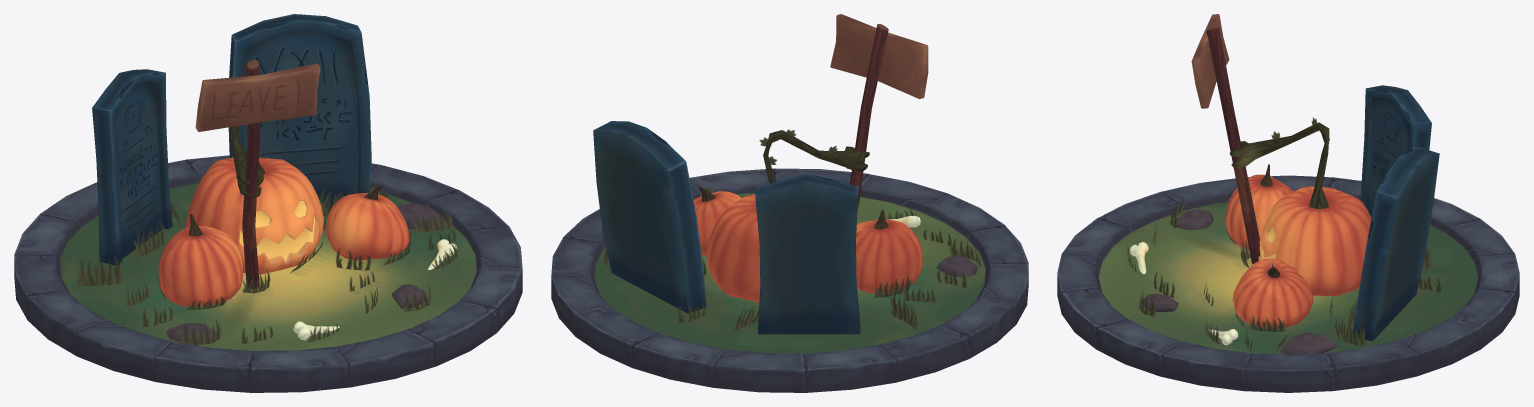
The model's file is helloween.glb.
3 views of the same model, side by side, from view 1: azimuth 30°, elevation 25°; view 2: azimuth 150°, elevation 25°; view 3: azimuth 270°, elevation 25° (orthographic). The views are drawn at different scales.
Parts seen in each view (by area): view 1: HelloweenUV.001, HelloweenUV.003, HelloweenUV.014, HelloweenUV.009, HelloweenUV.006, HelloweenUV.024, HelloweenUV.005, HelloweenUV.010, HelloweenUV.015, HelloweenUV.007; view 2: HelloweenUV.001, HelloweenUV.003, HelloweenUV.014, HelloweenUV.009, HelloweenUV.006, HelloweenUV.024, HelloweenUV.013; view 3: HelloweenUV.001, HelloweenUV.014, HelloweenUV.003, HelloweenUV.009, HelloweenUV.006, HelloweenUV.005, HelloweenUV.004.
Part boxes in pixels (left/top/right/bottom): HelloweenUV.001: left=14, top=155, right=522, bottom=392; HelloweenUV.003: left=92, top=14, right=371, bottom=265; HelloweenUV.014: left=158, top=125, right=409, bottom=306; HelloweenUV.009: left=195, top=60, right=320, bottom=289; HelloweenUV.006: left=166, top=203, right=445, bottom=343; HelloweenUV.024: left=76, top=256, right=123, bottom=285; HelloweenUV.005: left=293, top=239, right=457, bottom=340; HelloweenUV.010: left=133, top=221, right=165, bottom=258; HelloweenUV.015: left=178, top=319, right=220, bottom=345; HelloweenUV.007: left=412, top=209, right=453, bottom=231; HelloweenUV.001: left=551, top=168, right=1028, bottom=392; HelloweenUV.003: left=593, top=121, right=860, bottom=334; HelloweenUV.014: left=693, top=130, right=922, bottom=302; HelloweenUV.009: left=830, top=14, right=928, bottom=208; HelloweenUV.006: left=936, top=255, right=977, bottom=277; HelloweenUV.024: left=890, top=293, right=918, bottom=329; HelloweenUV.013: left=874, top=276, right=911, bottom=297; HelloweenUV.001: left=1057, top=175, right=1519, bottom=392; HelloweenUV.014: left=1226, top=122, right=1371, bottom=328; HelloweenUV.003: left=1352, top=85, right=1439, bottom=341; HelloweenUV.009: left=1191, top=14, right=1260, bottom=263; HelloweenUV.006: left=1141, top=209, right=1337, bottom=354; HelloweenUV.005: left=1129, top=242, right=1238, bottom=345; HelloweenUV.004: left=1340, top=319, right=1366, bottom=346.
Bounding box in the file's own units: 262 × 152 × 262.
1 material, 1 textured.
